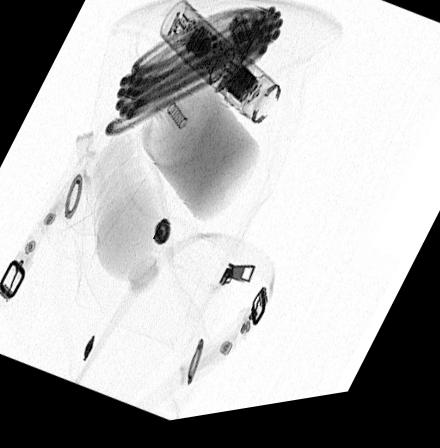Baton: (157, 5, 281, 133)
